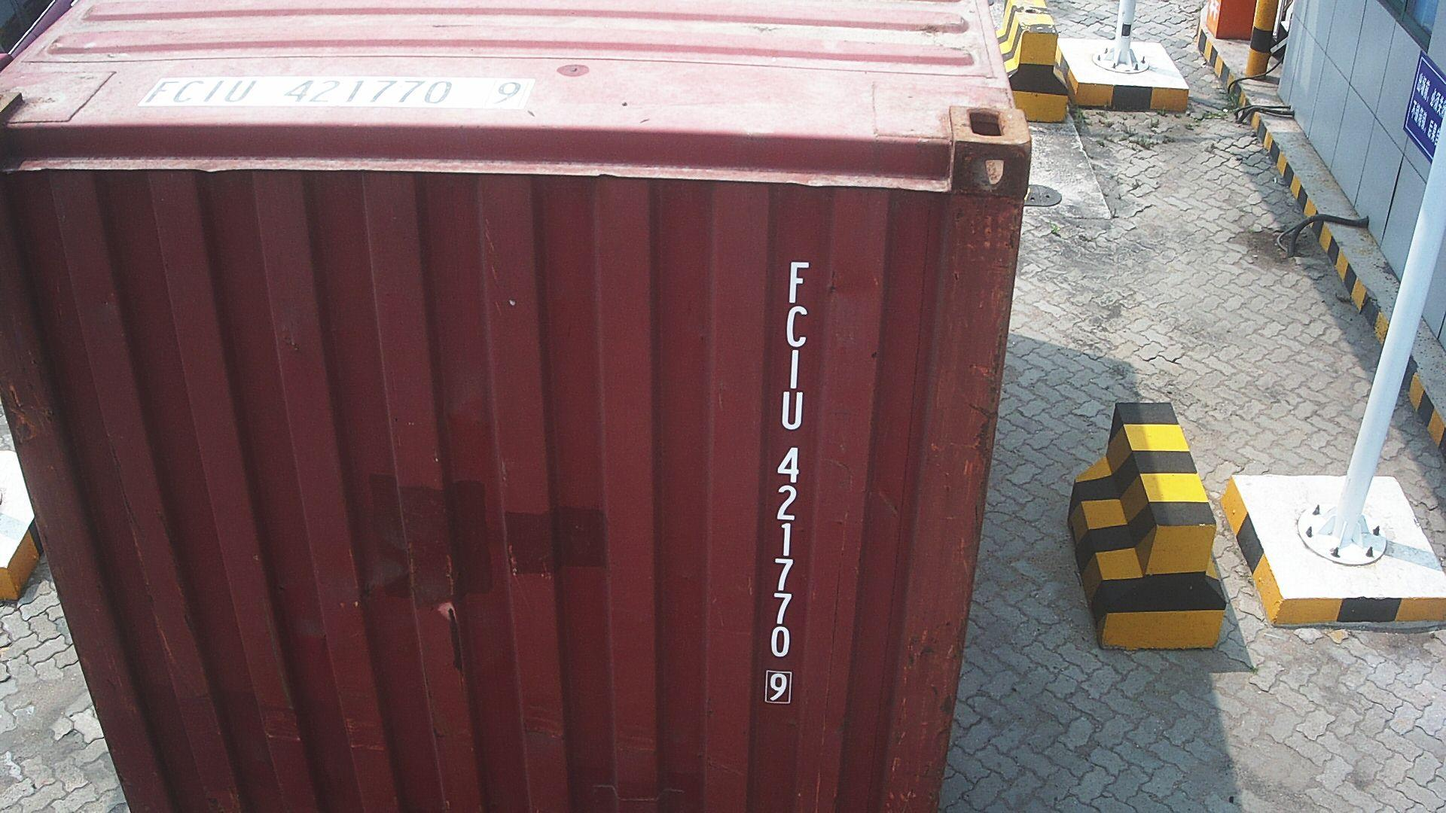container-numbers: (755, 255, 816, 707), (136, 72, 538, 113)
